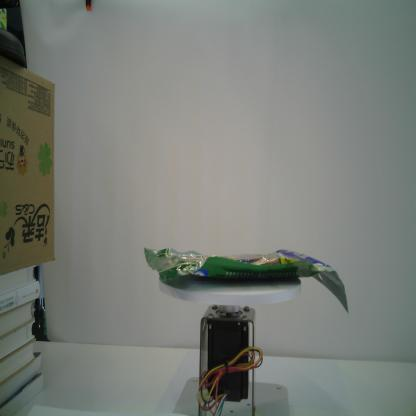Dried Food: (142, 246, 348, 313)
